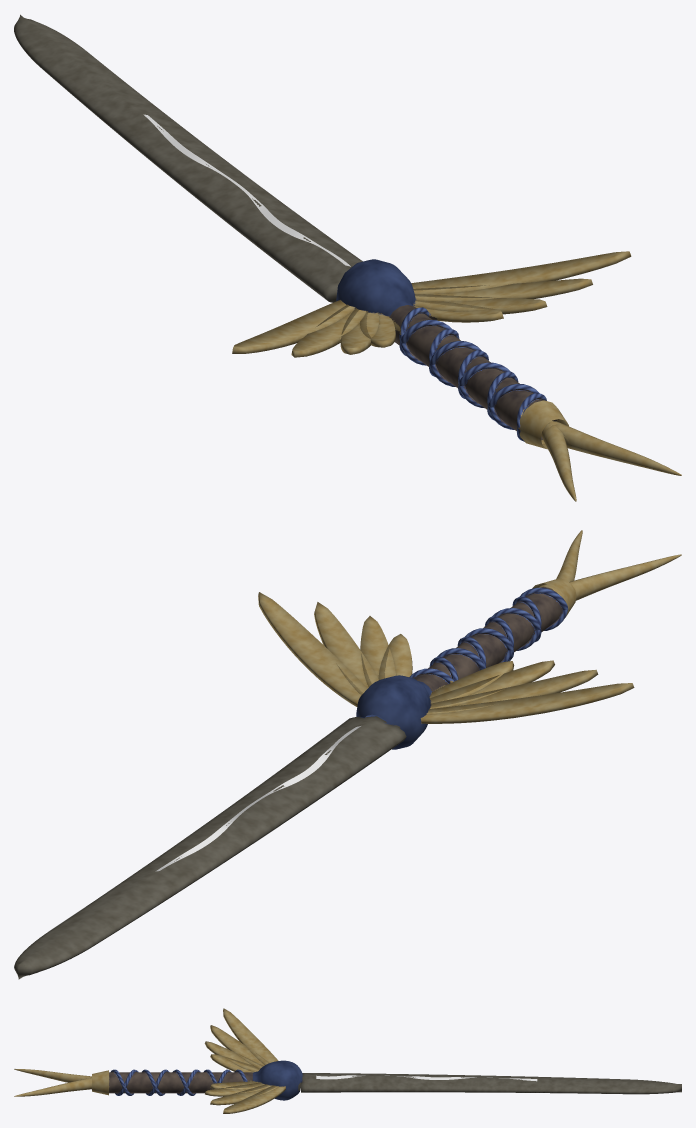
Rendered from Sword5.fbx.
The picture shows the model from 3 angles, top to bottom: view 1: azimuth 30°, elevation 25°; view 2: azimuth 150°, elevation 25°; view 3: azimuth 270°, elevation 25°; orthographic projection. The views are drawn at different scales.
Parts seen in each view (by area): view 1: Sword5_Body, Sword5_Glow_ffaa1e; view 2: Sword5_Body, Sword5_Glow_ffaa1e; view 3: Sword5_Body, Sword5_Glow_ffaa1e.
Boxes of the visible parts, bbox=[...] form: Sword5_Body: bbox=[14, 14, 681, 501]; Sword5_Glow_ffaa1e: bbox=[143, 114, 350, 266]; Sword5_Body: bbox=[14, 530, 681, 979]; Sword5_Glow_ffaa1e: bbox=[155, 726, 360, 871]; Sword5_Body: bbox=[14, 1008, 681, 1113]; Sword5_Glow_ffaa1e: bbox=[316, 1075, 537, 1081].
Size of the model in its own units: 2.28 by 0.4033 by 6.23.
Materials: 2 (1 with a texture image).
